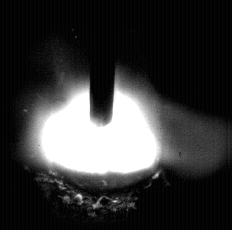arame: (90, 0, 115, 127)
poca: (41, 0, 158, 230)
